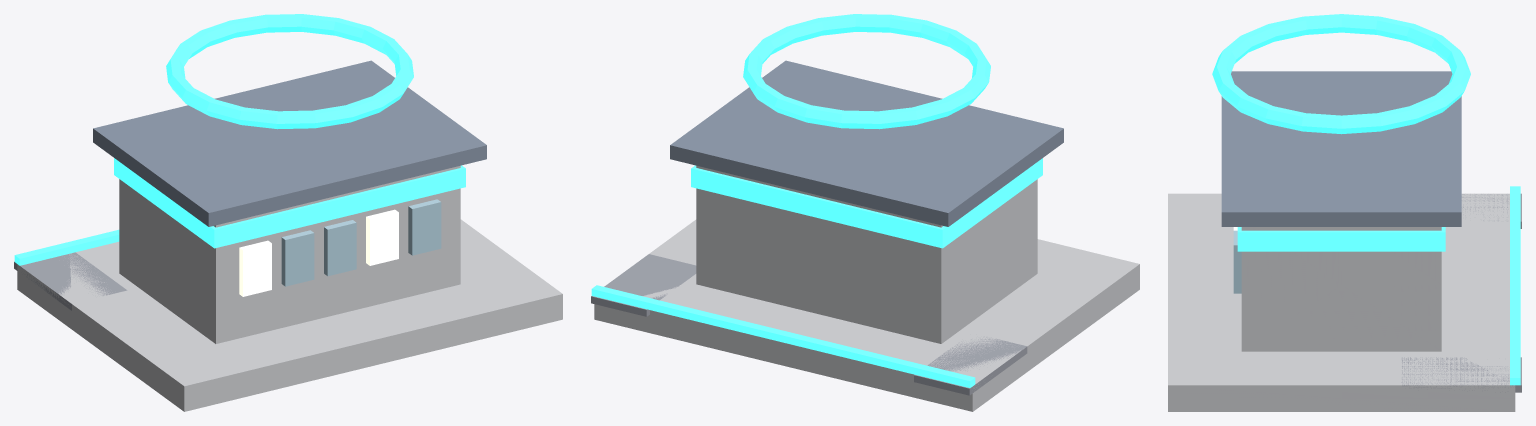
Rendered from interchange.glb.
The picture shows the model from 3 angles, left to right: view 1: azimuth 30°, elevation 25°; view 2: azimuth 150°, elevation 25°; view 3: azimuth 270°, elevation 25°; orthographic projection. The views are drawn at different scales.
Visible parts, largest first — view 1: MetroInterchange; view 2: MetroInterchange; view 3: MetroInterchange.
Boxes of the visible parts, bbox=[...] form: MetroInterchange: bbox=[14, 14, 562, 411]; MetroInterchange: bbox=[591, 14, 1139, 411]; MetroInterchange: bbox=[1168, 14, 1521, 411].
Bounding box in the file's own units: 3.4 × 2.06 × 2.65.
